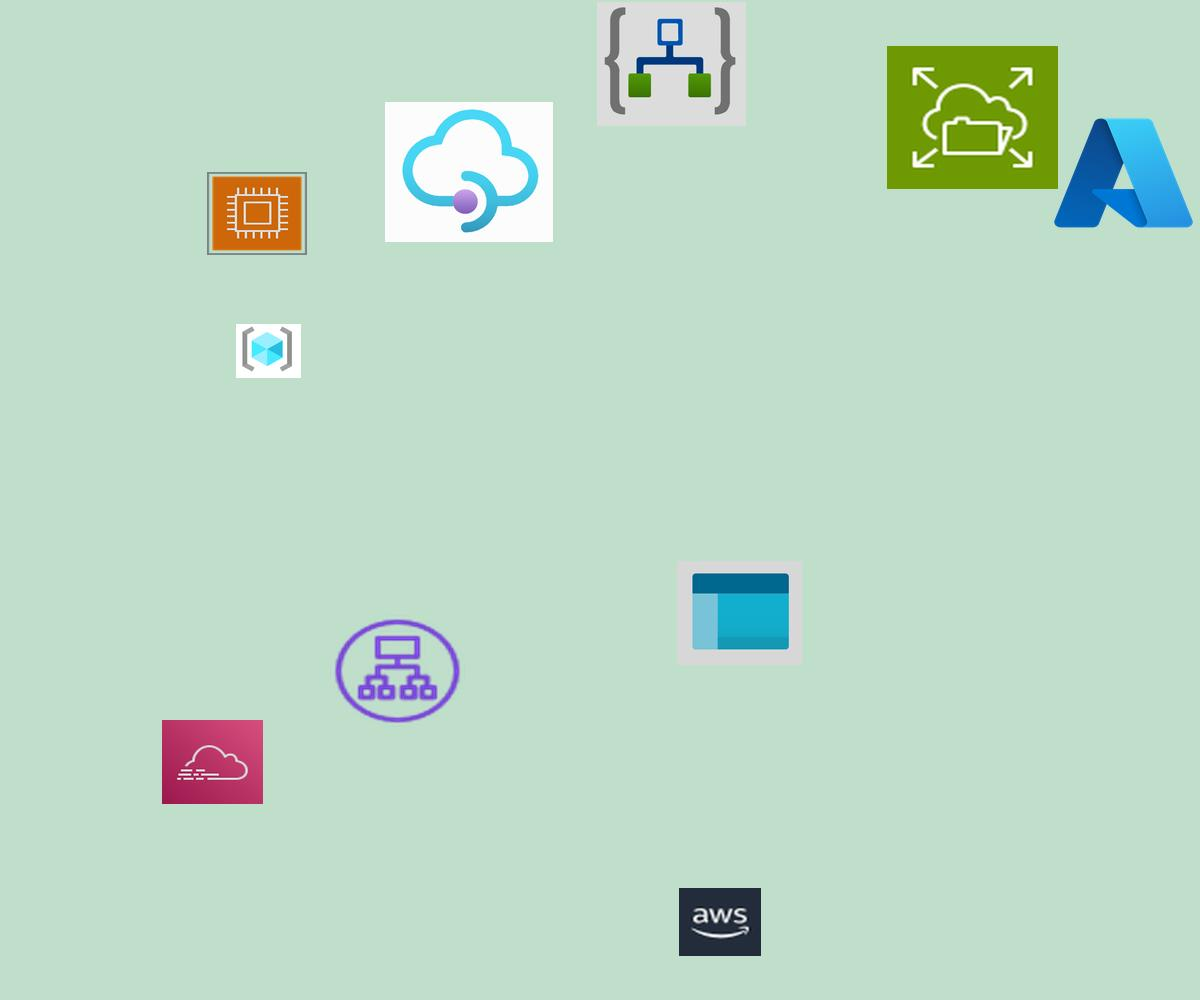AWS-Category_Compute: (207, 172, 307, 255)
AWS-Cloud-logo: (679, 888, 761, 956)
AWS-CloudTrail: (162, 720, 263, 804)
AWS-EFS: (887, 46, 1058, 189)
AWS-Res_Elastic-Load-Balancing_Application-Load-Balancer: (330, 615, 465, 727)
Azure_api_gateway: (385, 102, 553, 242)
Azure_integration-204-Logic-Apps: (597, 2, 746, 126)
Azure_management-portal: (677, 561, 802, 665)
Azure_resource_group: (236, 324, 301, 378)
Azure_services: (1048, 110, 1199, 236)
